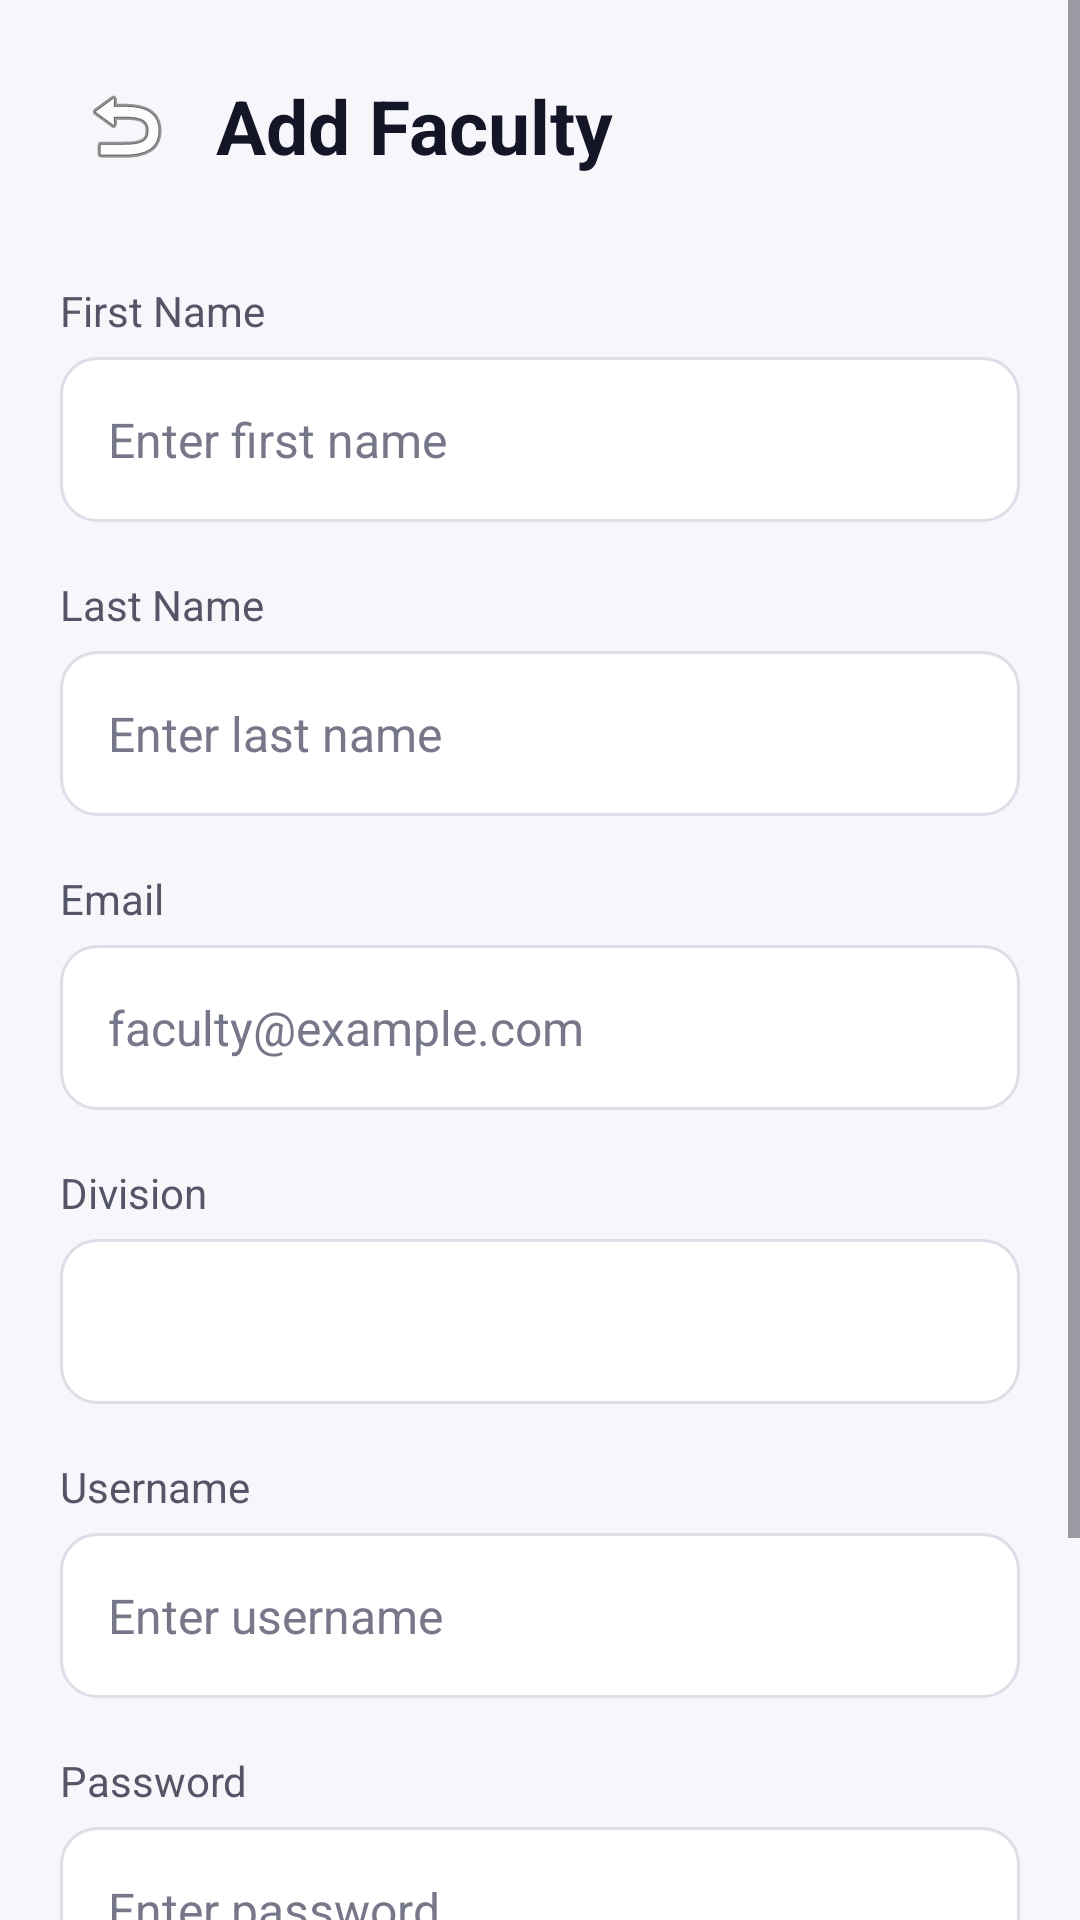

Named icons in this screenshot (1080 x 1920) and their centers, (x=x, y=y):
Back: (x=127, y=126)
